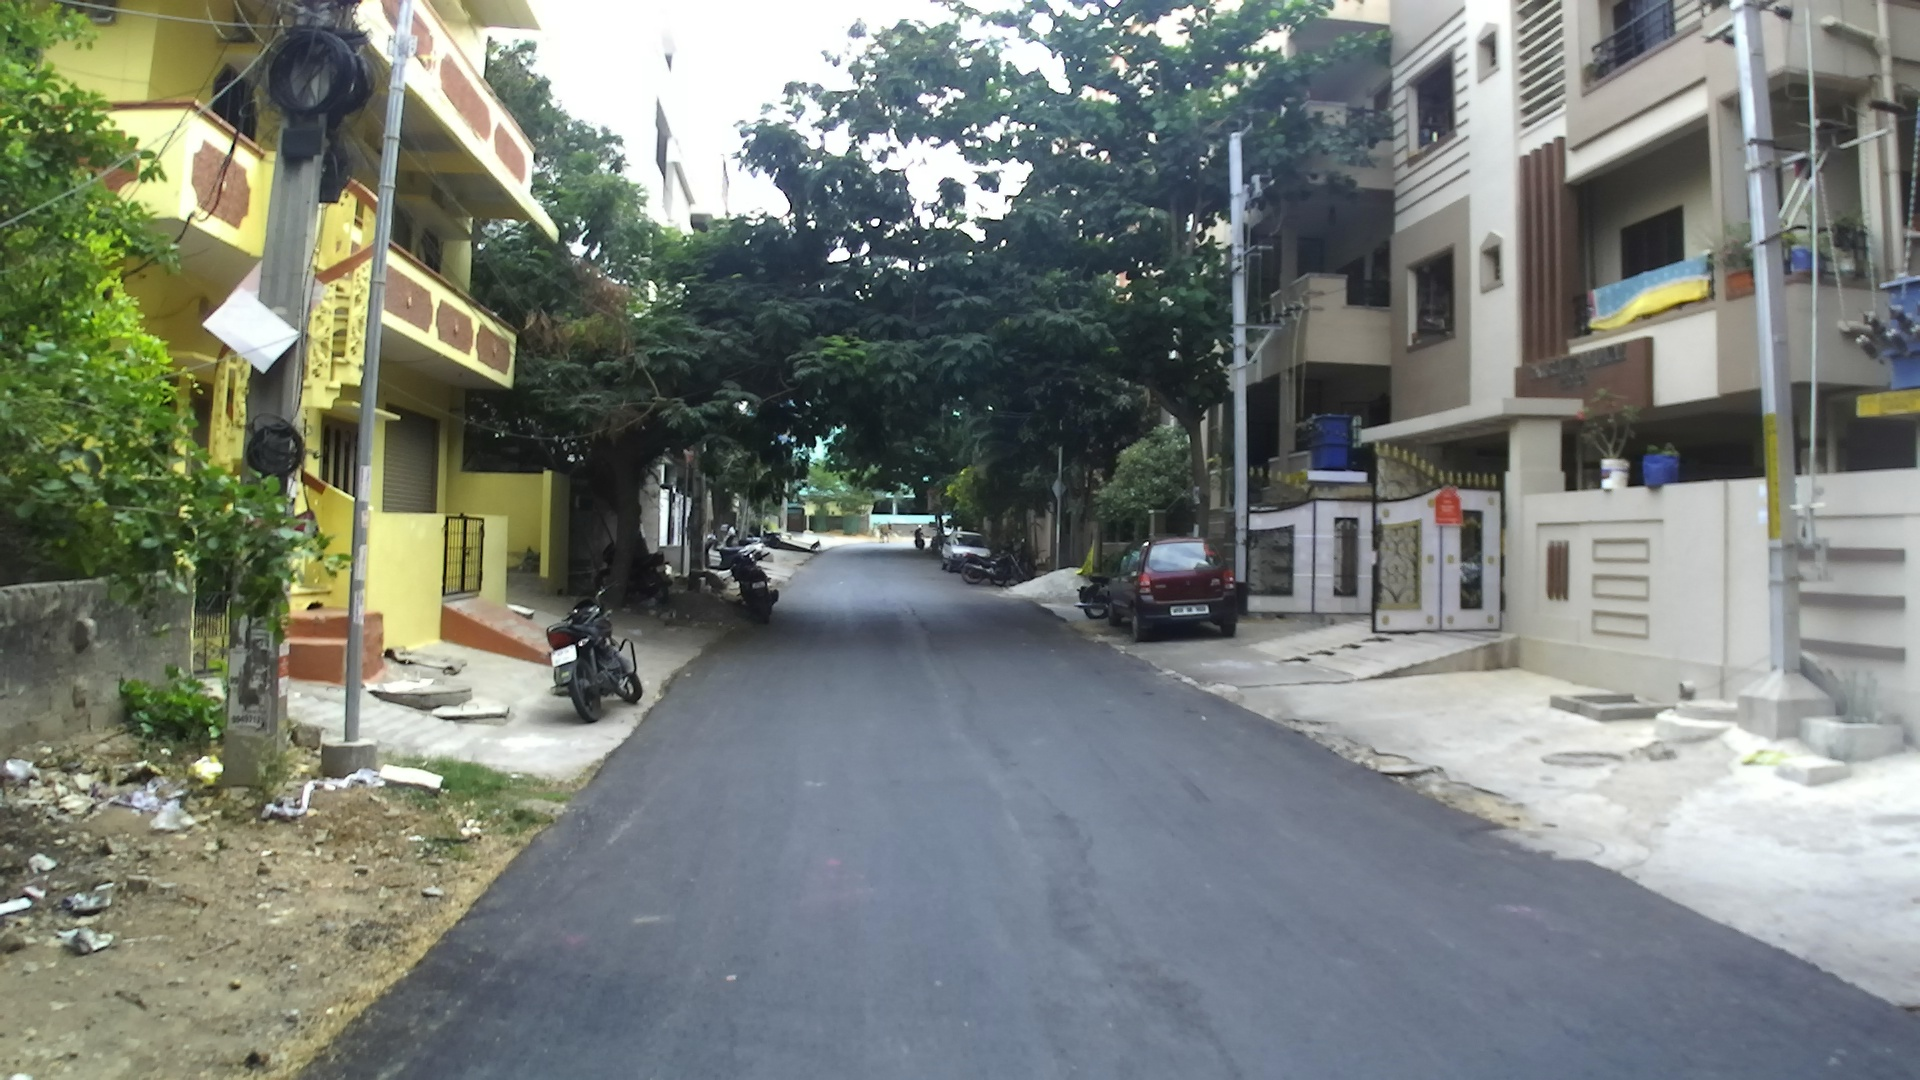vehicle: (1080, 538, 1247, 642), (545, 597, 645, 723), (939, 531, 1001, 583)
